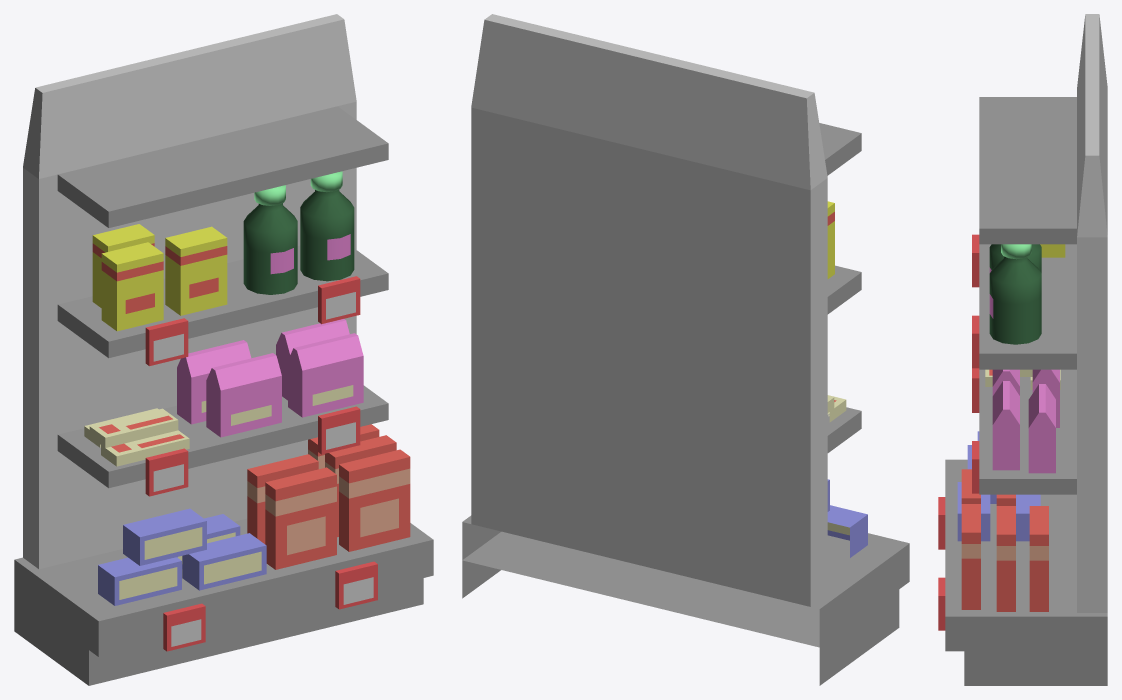
Rendered from Shelving.fbx.
The picture shows the model from 3 angles, left to right: view 1: azimuth 30°, elevation 25°; view 2: azimuth 150°, elevation 25°; view 3: azimuth 270°, elevation 25°; orthographic projection. The views are drawn at different scales.
Parts seen in each view (by area): view 1: Shelving; view 2: Shelving; view 3: Shelving.
Part boxes in pixels (box(x1,y1,x2,y2)): Shelving: box(14, 14, 433, 685); Shelving: box(462, 14, 909, 685); Shelving: box(938, 14, 1107, 685).
Size of the model in its own units: 0.5394 by 1.18 by 1.83.
